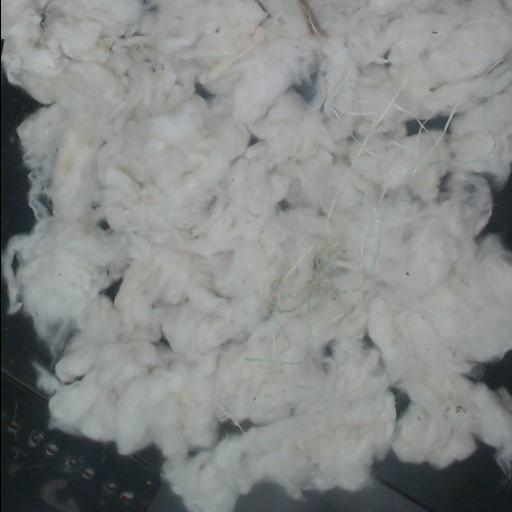conveyor belt: (1, 281, 187, 511), (235, 442, 512, 511), (1, 74, 39, 248), (481, 173, 512, 249), (469, 350, 512, 394), (405, 115, 448, 134), (392, 389, 410, 416)
cotton: (1, 0, 512, 511)
jute: (298, 0, 320, 35)
thread: (325, 88, 400, 223), (269, 241, 316, 314)
